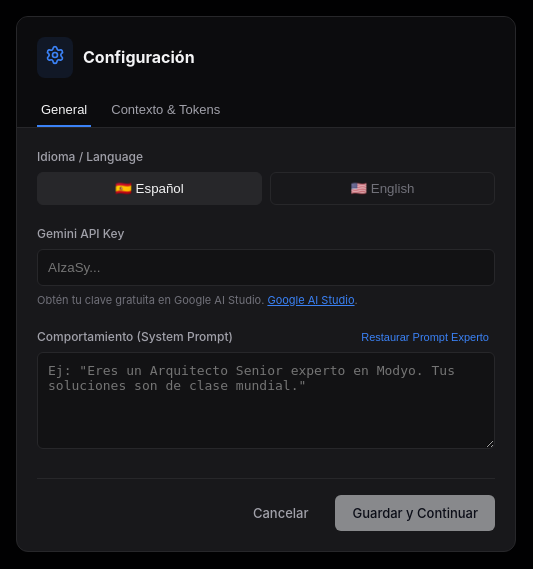
Test: SettingsModal i18n › permite cambiar el idioma y actualiza la UI al instante
Expected: the heading "Configuración" is shown, left=83, top=45, right=195, bottom=69
Expected: the button "General" is shown, left=37, top=94, right=91, bottom=127
// Cambiar a inglés
Click the button "🇺🇸 English": {"x": 382, "y": 188} left=270, top=172, right=495, bottom=205
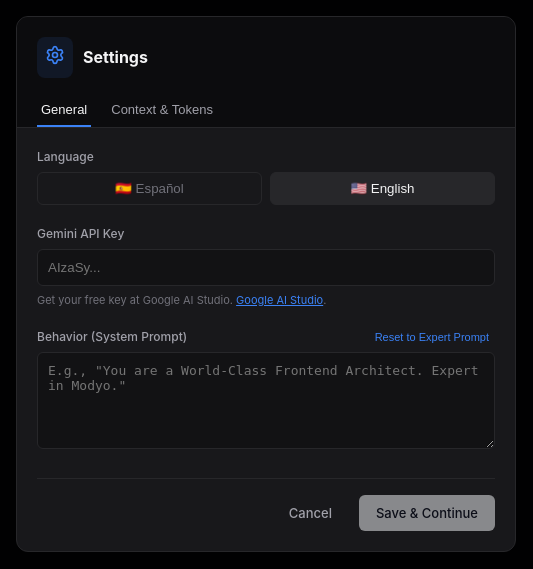
Expected: the button "General" is shown, left=37, top=94, right=91, bottom=127
Expected: the heading "Settings" is shown, left=83, top=45, right=148, bottom=69
Expected: the button "Context & Tokens" is shown, left=107, top=94, right=217, bottom=127
